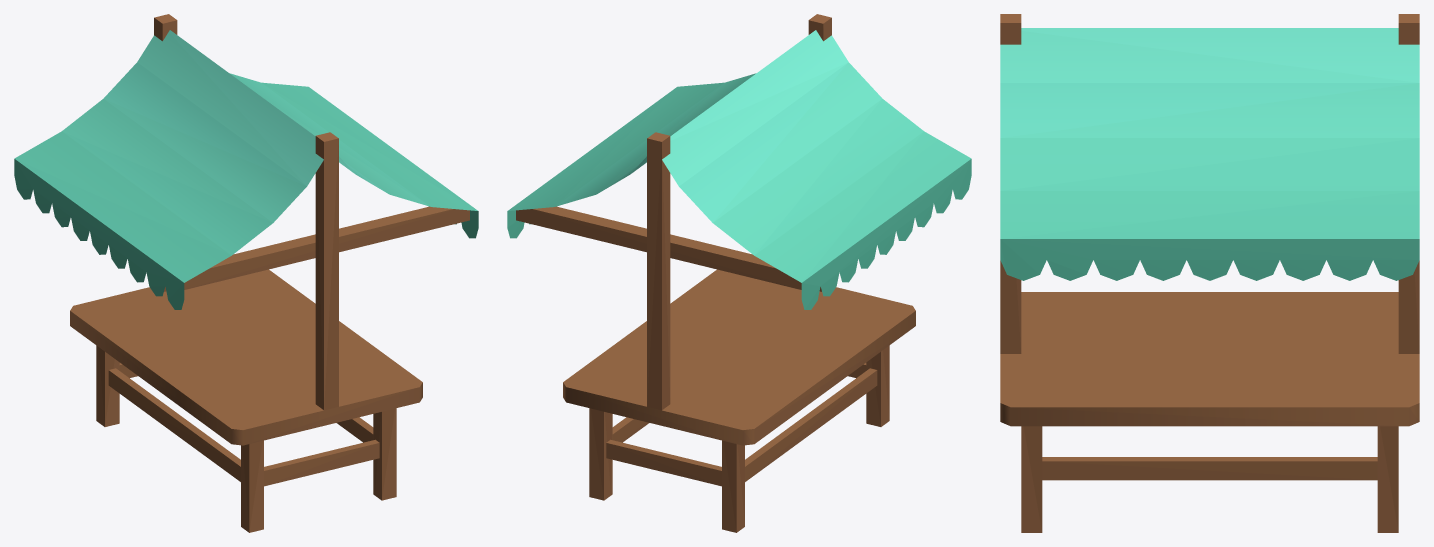
The model's file is kenney_town_stall_green.glb.
3 renders of one model, left to right at view 1: azimuth 30°, elevation 25°; view 2: azimuth 150°, elevation 25°; view 3: azimuth 270°, elevation 25°, orthographic. The views are drawn at different scales.
Parts seen in each view (by area): view 1: wood, cloth; view 2: wood, cloth; view 3: cloth, wood.
Part boxes in pixels (x1,y1,x2,y2): wood: (70,14,469,532); cloth: (14,30,478,309); wood: (516,14,915,532); cloth: (507,30,971,309); cloth: (1000,28,1419,280); wood: (1000,14,1419,532).
Size of the model in its own units: 1 by 1.24 by 1.
